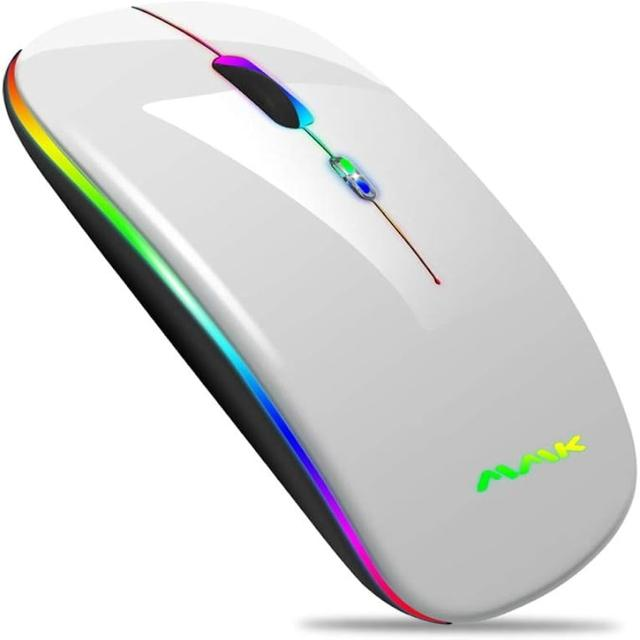mouse: (48, 12, 619, 619)
